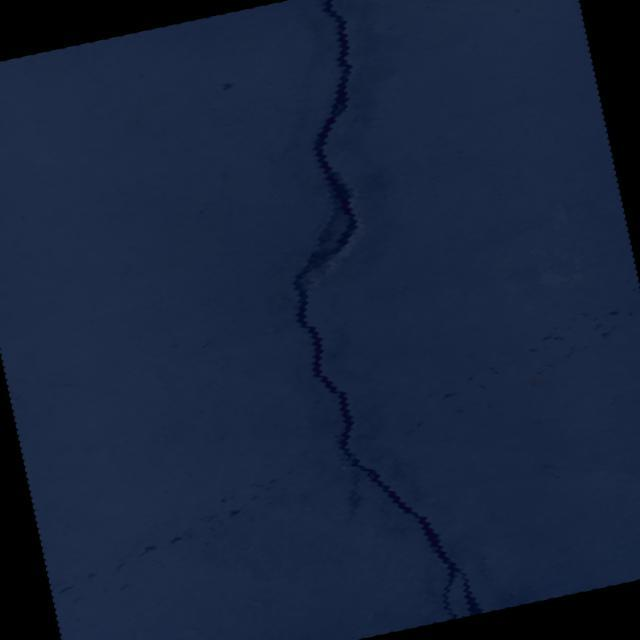crack: (230, 0, 484, 638)
